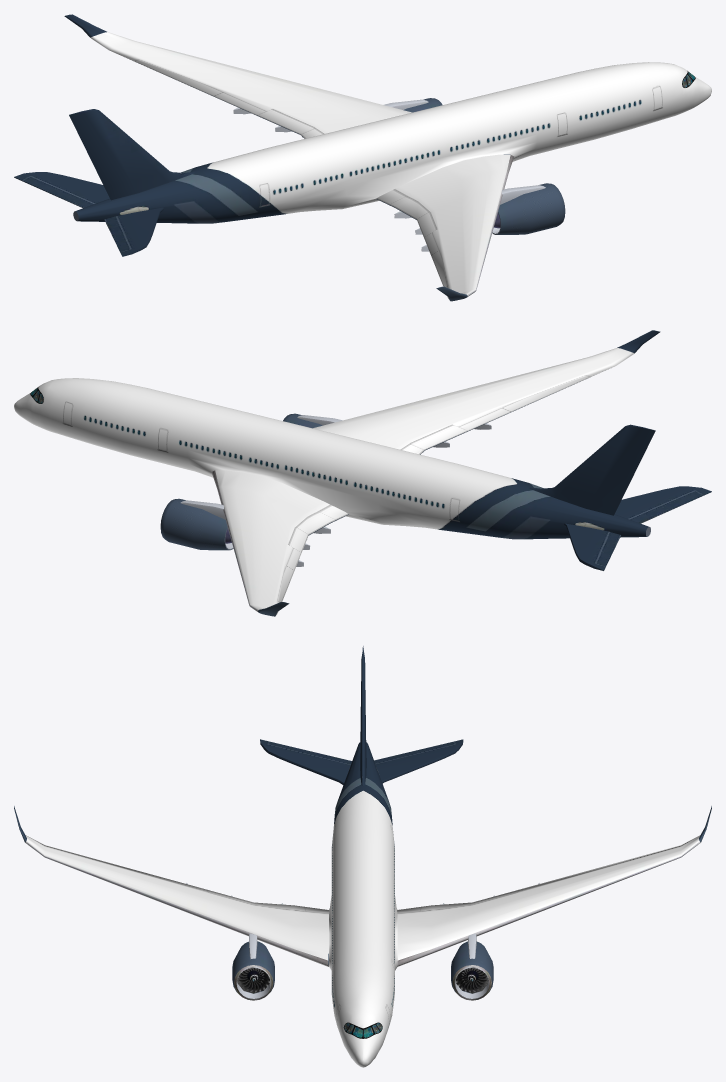
The model's file is amvlab-a350.glb.
The picture shows the model from 3 angles, top to bottom: view 1: azimuth 30°, elevation 25°; view 2: azimuth 150°, elevation 25°; view 3: azimuth 270°, elevation 25°; orthographic projection. The views are drawn at different scales.
Parts seen in each view (by area): view 1: A350; view 2: A350; view 3: A350.
Part boxes in pixels (left/top/right/bottom): A350: left=14, top=14, right=711, bottom=301; A350: left=14, top=330, right=711, bottom=616; A350: left=14, top=646, right=711, bottom=1067.
Bounding box in the file's own units: 67.41 × 17.19 × 67.47.
Materials: 1 (1 with a texture image).
